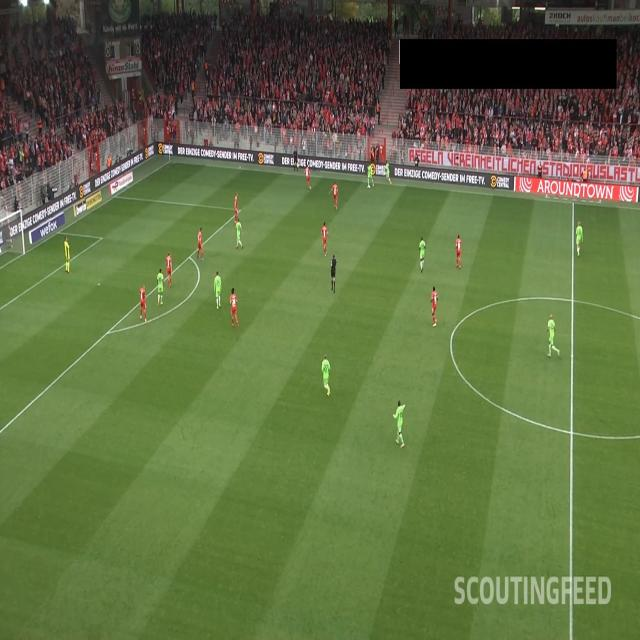ball: (367, 184, 371, 190)
